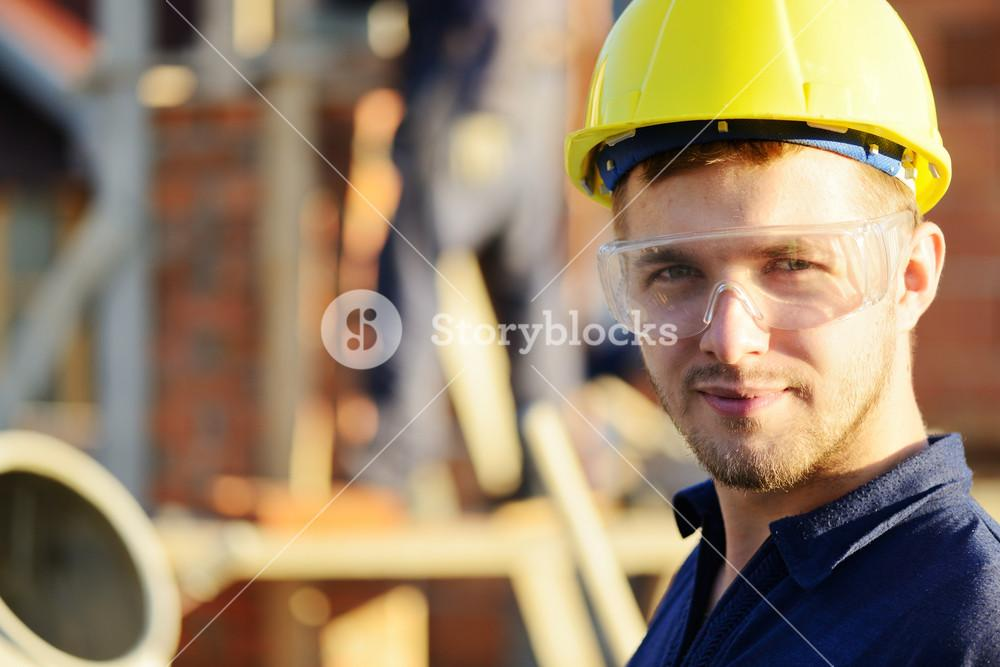helmet: (556, 1, 952, 212)
